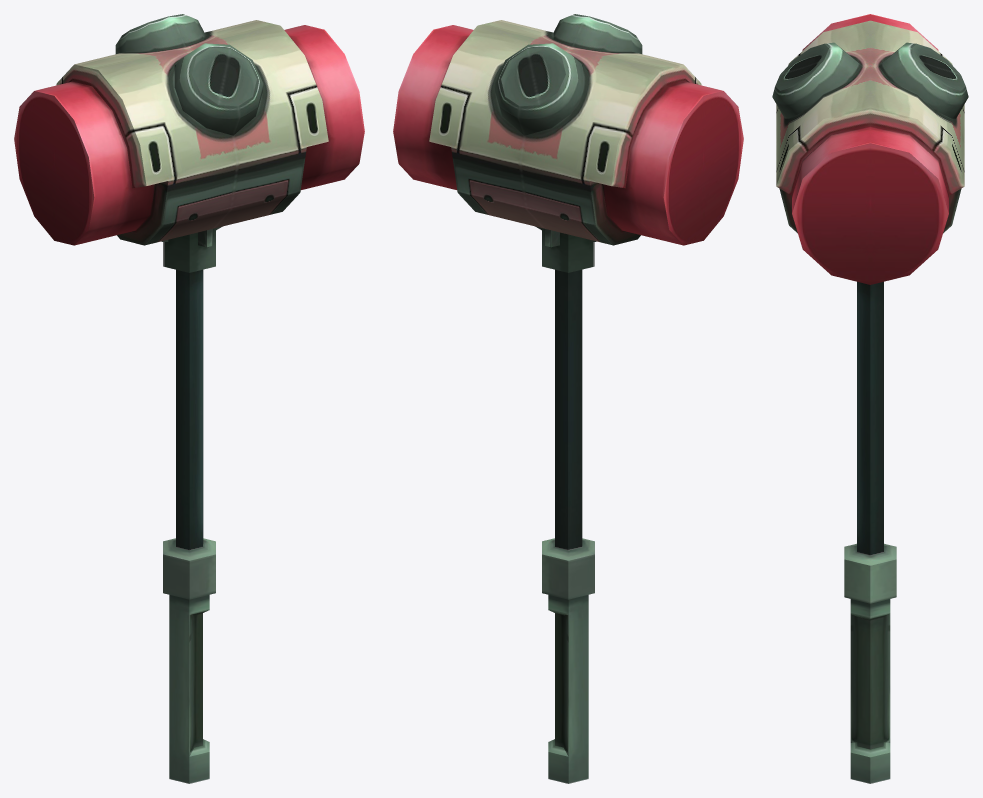
File: hammer.FBX
3 views of the same model, side by side, from view 1: azimuth 30°, elevation 25°; view 2: azimuth 150°, elevation 25°; view 3: azimuth 270°, elevation 25° (orthographic). The views are drawn at different scales.
Visible parts, largest first — view 1: hammer; view 2: hammer; view 3: hammer.
Part boxes in pixels (x1,y1,x2,y2): hammer: [14, 14, 364, 783]; hammer: [393, 14, 743, 783]; hammer: [772, 14, 968, 783].
Size of the model in its own units: 139 by 364 by 89.12.
Materials: 1 (1 with a texture image).
